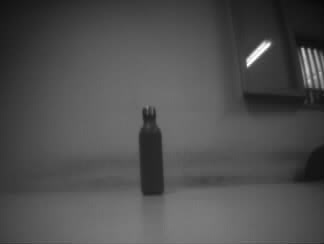Bottle: (138, 105, 165, 196)
